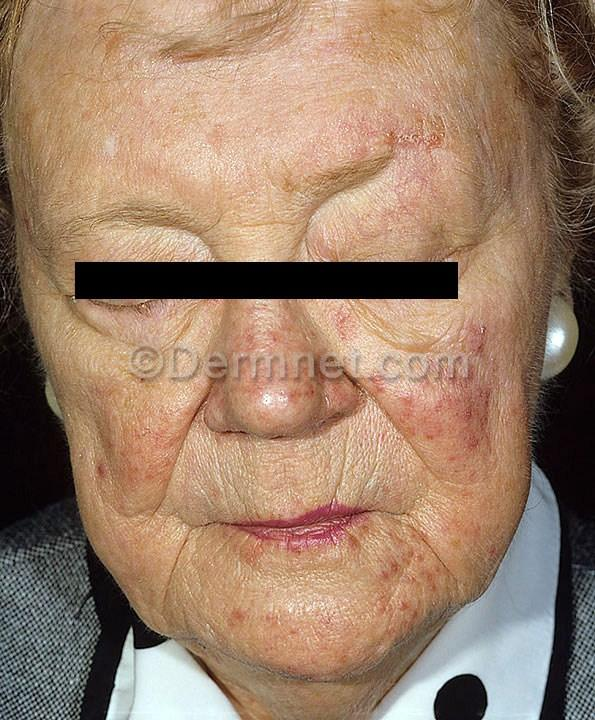Dry-Skin: (333, 359, 476, 488), (123, 361, 228, 526), (315, 283, 504, 368), (395, 507, 490, 637), (183, 187, 341, 260), (75, 305, 225, 364), (159, 537, 216, 660)
